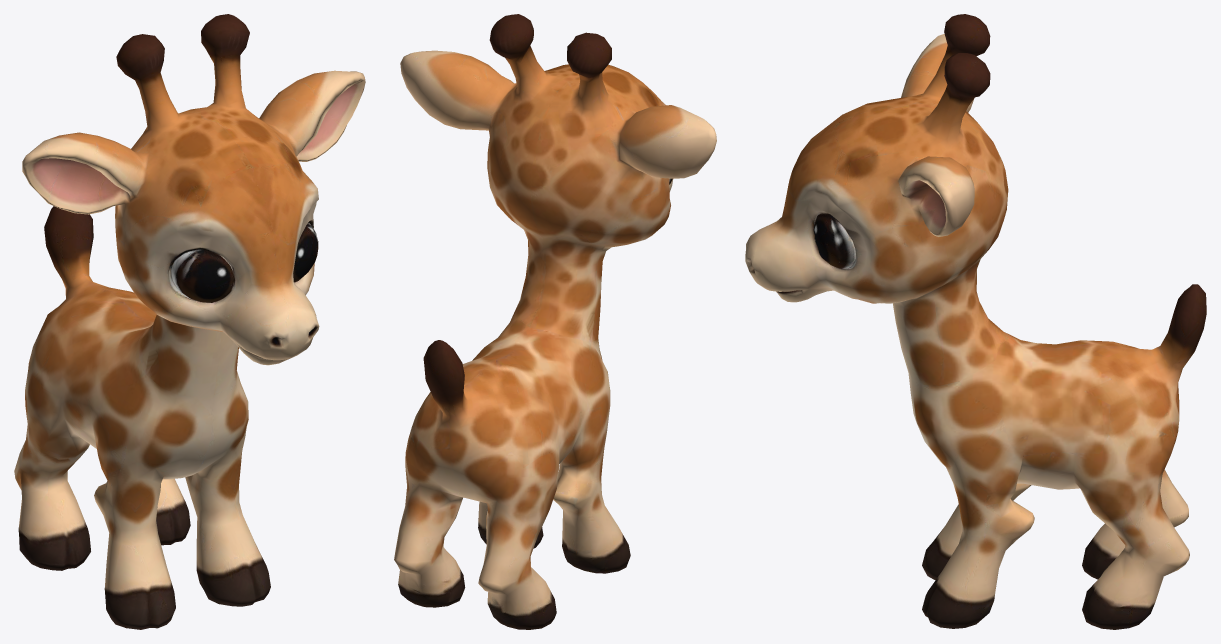
File: toy-giraffe.prefab.glb
3 views of the same model, side by side, from view 1: azimuth 30°, elevation 25°; view 2: azimuth 150°, elevation 25°; view 3: azimuth 270°, elevation 25° (orthographic). The views are drawn at different scales.
Visible parts, largest first — view 1: Prize_Batch0; view 2: Prize_Batch0; view 3: Prize_Batch0.
Boxes of the visible parts, x1,y1,x2,y2 form: Prize_Batch0: (14, 14, 365, 629); Prize_Batch0: (394, 14, 716, 629); Prize_Batch0: (745, 14, 1206, 629).
Size of the model in its own units: 0.0262 by 0.042 by 0.0316.
1 material, 1 textured.
